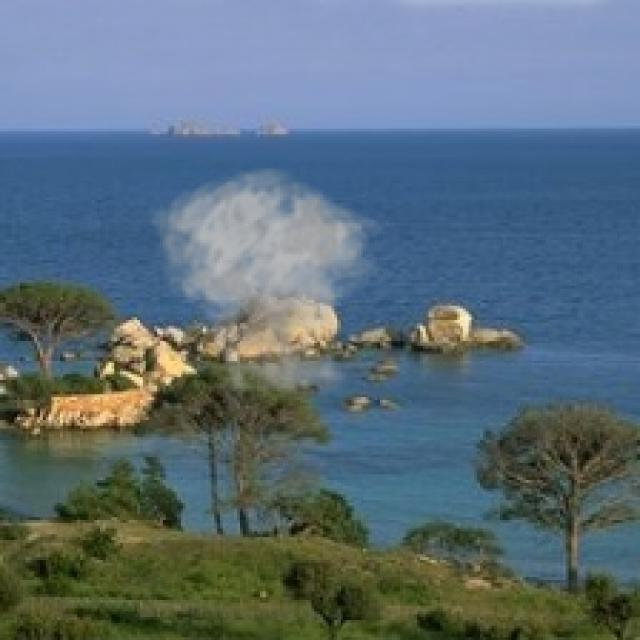smoke: (148, 166, 388, 411)
